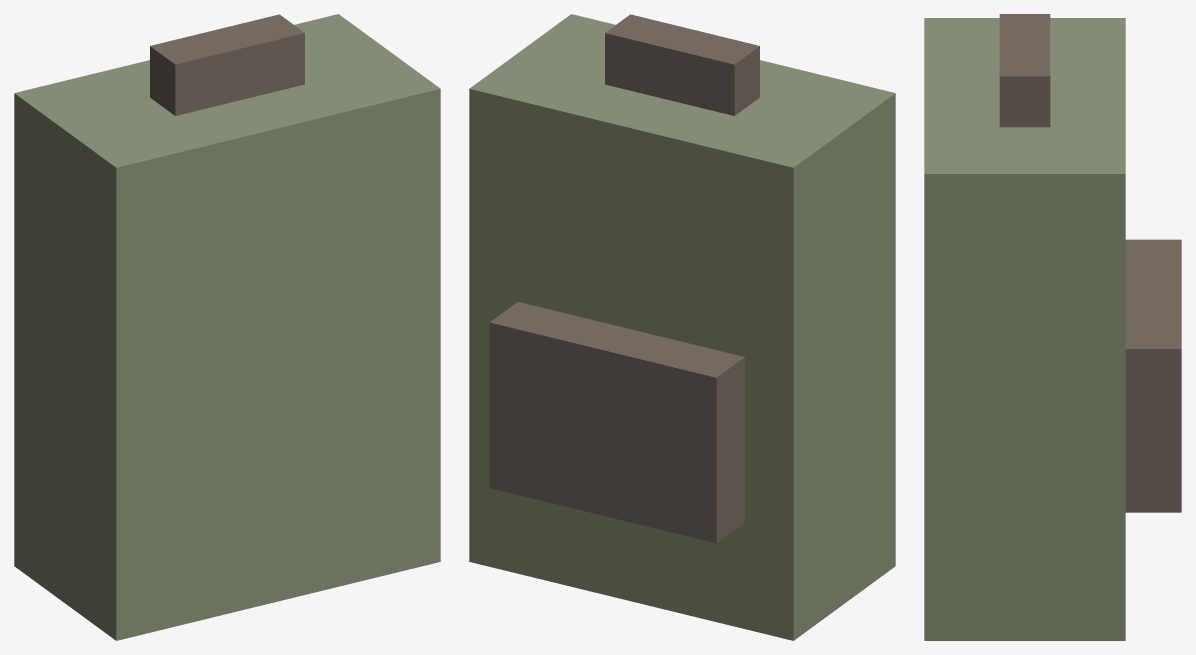
File: backpack.glb
The picture shows the model from 3 angles, left to right: view 1: azimuth 30°, elevation 25°; view 2: azimuth 150°, elevation 25°; view 3: azimuth 270°, elevation 25°; orthographic projection.
Parts seen in each view (by area): view 1: body; view 2: body; view 3: body.
Boxes of the visible parts, x1,y1,x2,y2 form: body: [14, 14, 440, 640]; body: [469, 14, 895, 640]; body: [924, 14, 1181, 640].
Size of the model in its own units: 0.33 by 0.51 by 0.23.
